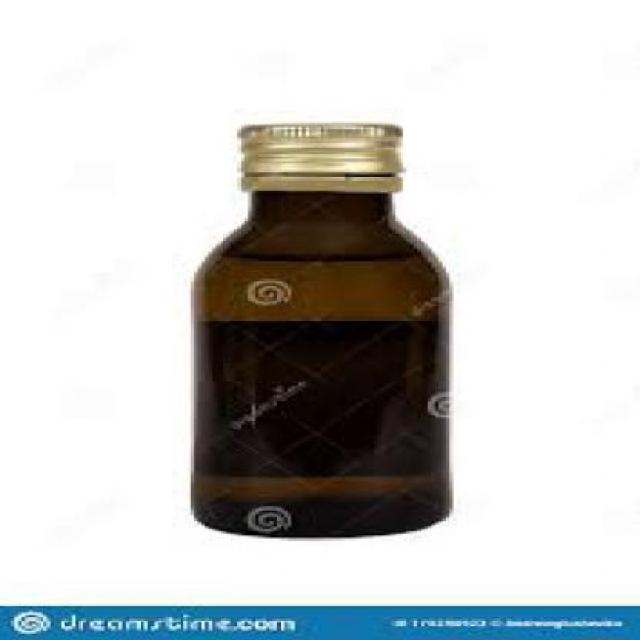kaca: (183, 191, 449, 535)
